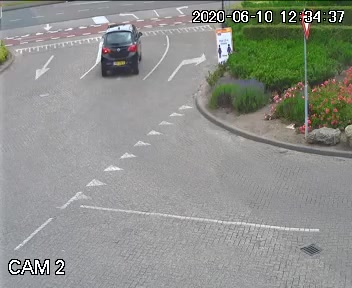car: (93, 20, 147, 85)
